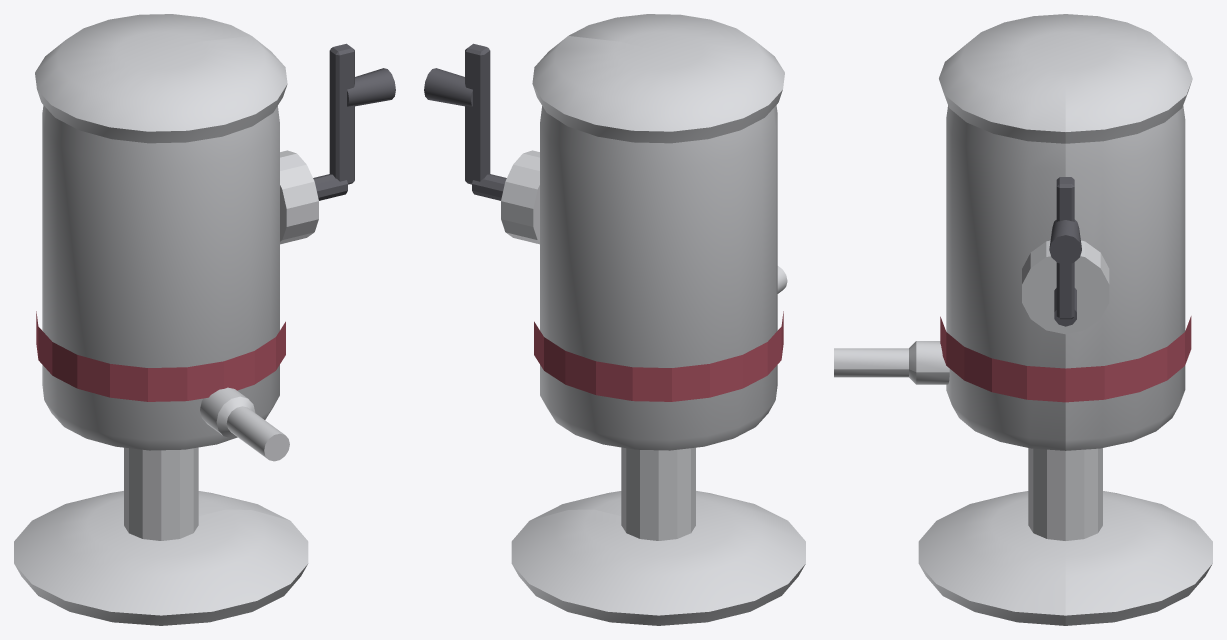
Rendered from butchers-shop-and-deli-counter-sausage-filler-91dd4114__34447.glb.
3 views of the same model, side by side, from view 1: azimuth 30°, elevation 25°; view 2: azimuth 150°, elevation 25°; view 3: azimuth 270°, elevation 25° (orthographic).
Visible parts, largest first — view 1: sausage-filler, filler-crank; view 2: sausage-filler, filler-crank; view 3: sausage-filler, filler-crank.
Part boxes in pixels (x1,y1,x2,y2): sausage-filler: (14, 14, 318, 625); filler-crank: (313, 43, 395, 200); sausage-filler: (501, 14, 805, 625); filler-crank: (424, 43, 506, 200); sausage-filler: (834, 14, 1212, 625); filler-crank: (1049, 177, 1081, 326).
Size of the model in its own units: 0.55 by 0.76 by 0.507.
